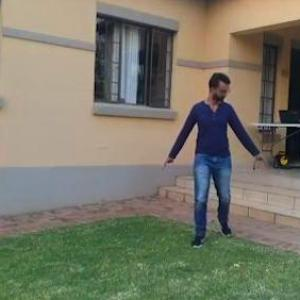land: (147, 57, 270, 260)
